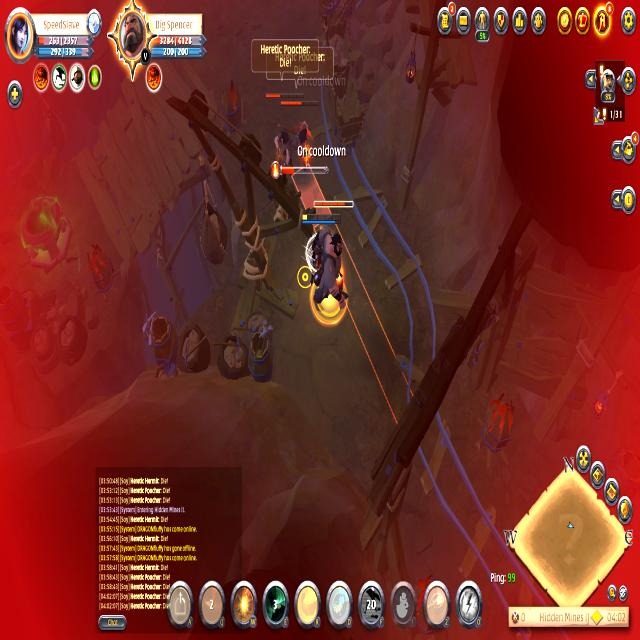ore: (307, 193, 356, 329), (262, 85, 303, 186), (287, 96, 317, 171)
red: (300, 208, 342, 292)
silver: (291, 162, 415, 428)
